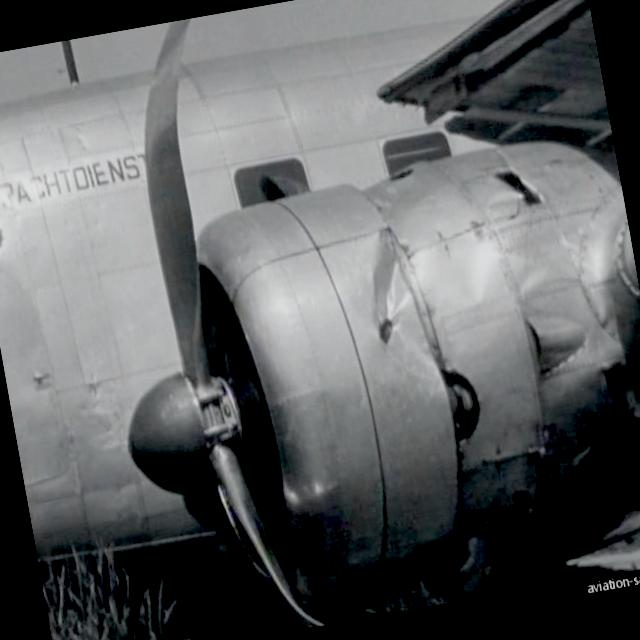dent: (353, 230, 415, 342)
